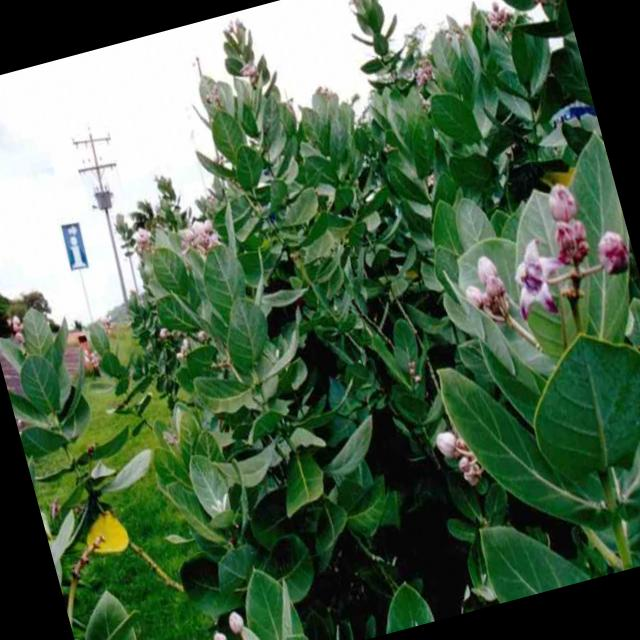Poisonous-Calatropis: (39, 0, 640, 640), (428, 149, 640, 593)
